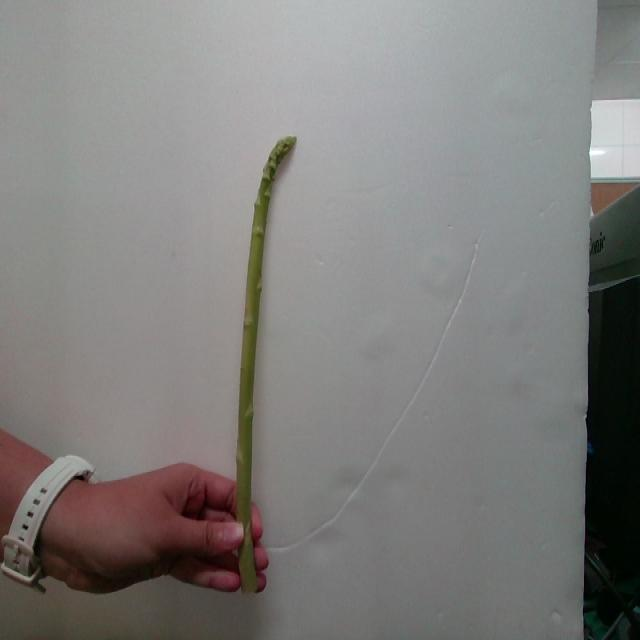aspargus: (236, 137, 298, 531)
